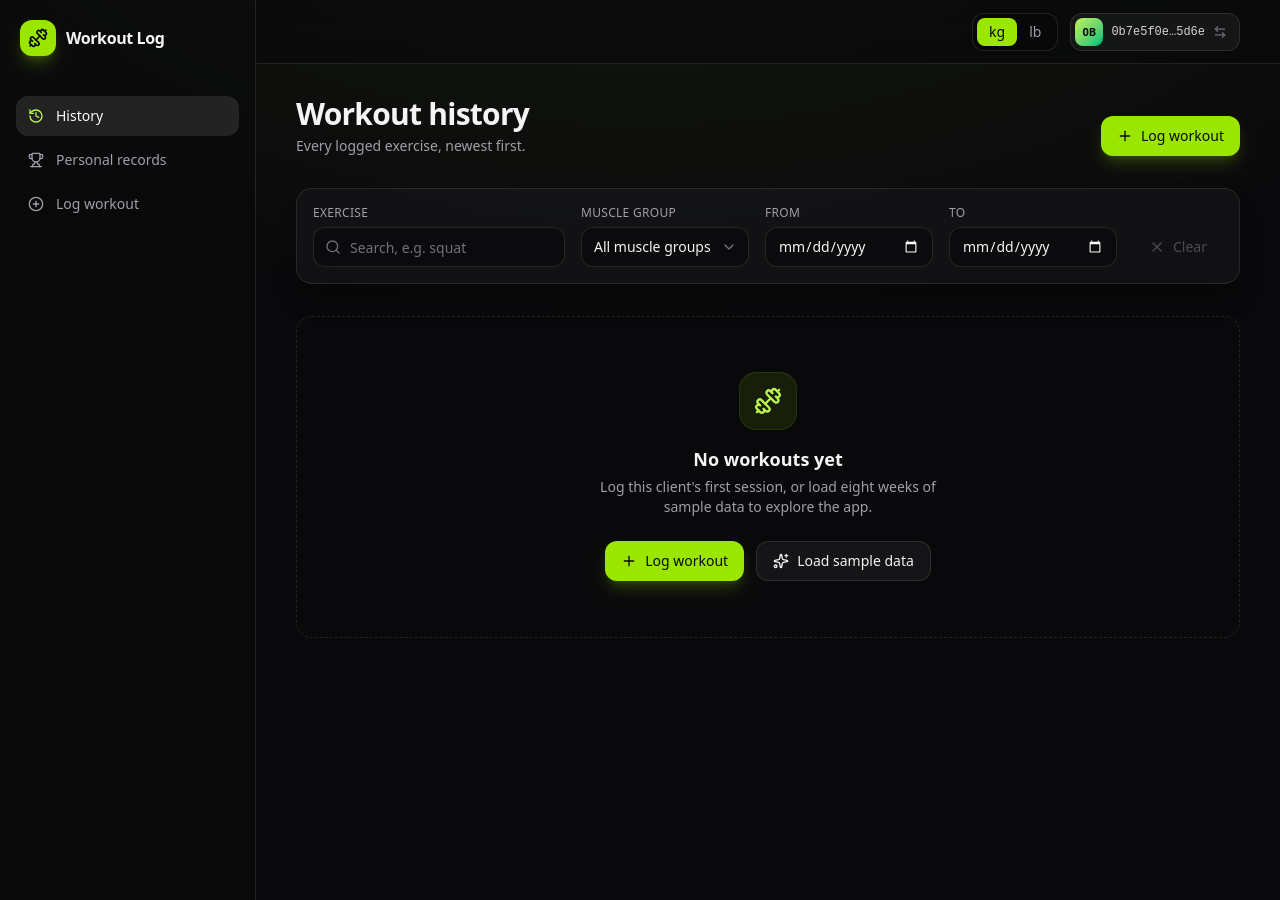
Test: routing and app shell › opens the welcome screen to switch clients
Click the link named "Switch client": (1155, 32) [1070, 12, 1240, 50]
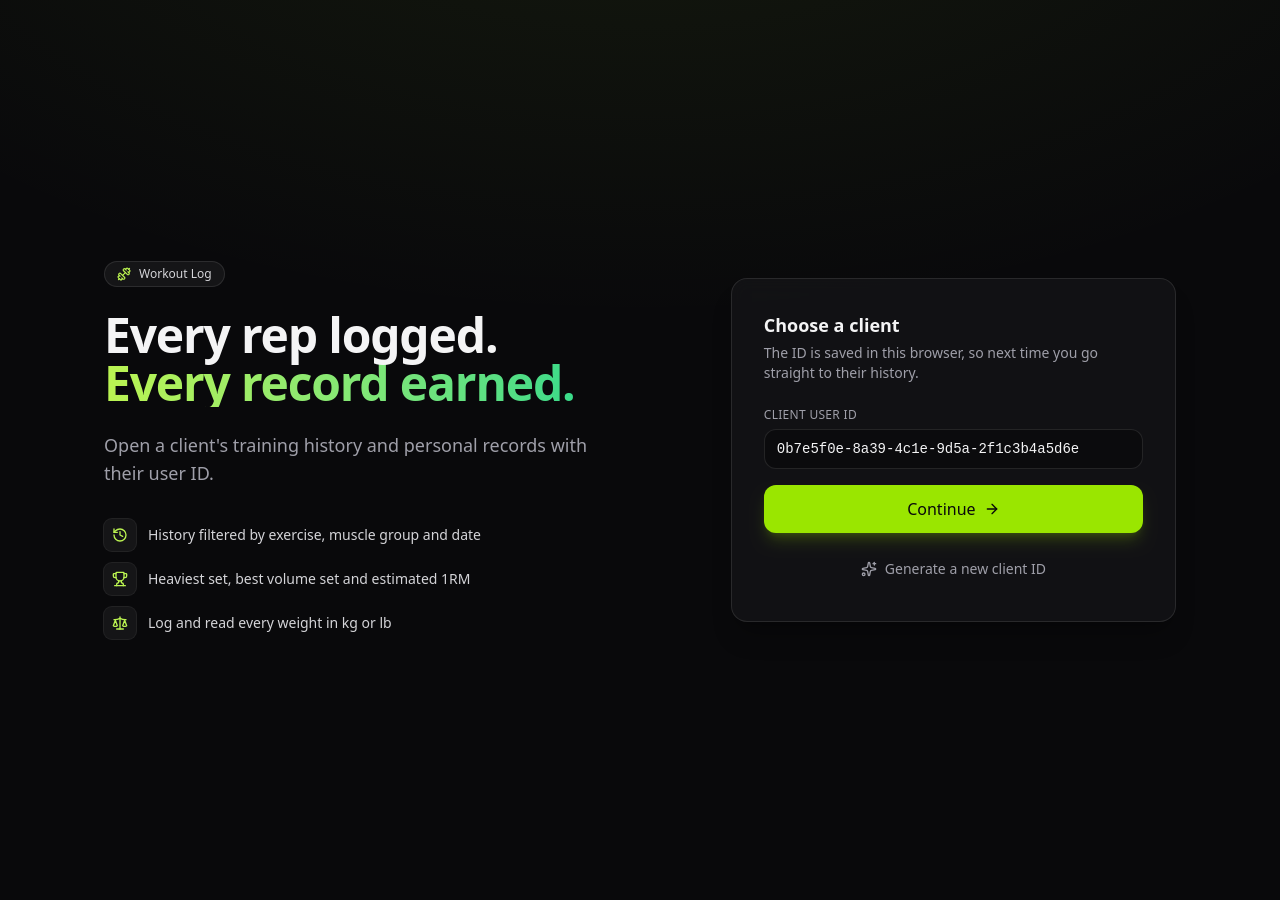
Check: the heading "Choose a client" is shown, box [764, 313, 900, 337]
Check: the field labelled "Client user ID" holds "0b7e5f0e-8a39-4c1e-9d5a-2f1c3b4a5d6e", box [764, 429, 1143, 469]
